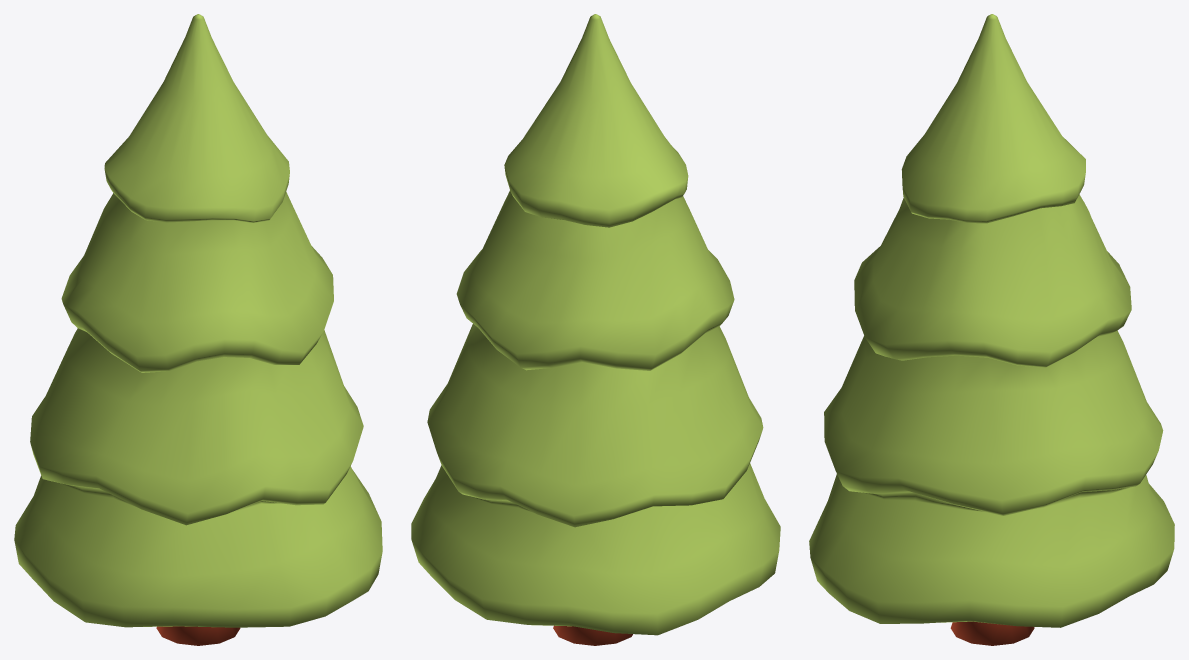
Rendered from Christmas_tree.fbx.
3 renders of one model, left to right at view 1: azimuth 30°, elevation 25°; view 2: azimuth 150°, elevation 25°; view 3: azimuth 270°, elevation 25°, orthographic.
Parts seen in each view (by area): view 1: ChrismasTree; view 2: ChrismasTree; view 3: ChrismasTree.
Part boxes in pixels (x1=…): ChrismasTree: x1=14, y1=14, x2=382, y2=645; ChrismasTree: x1=411, y1=14, x2=780, y2=645; ChrismasTree: x1=809, y1=14, x2=1174, y2=645.
Size of the model in its own units: 241 by 444 by 240.
